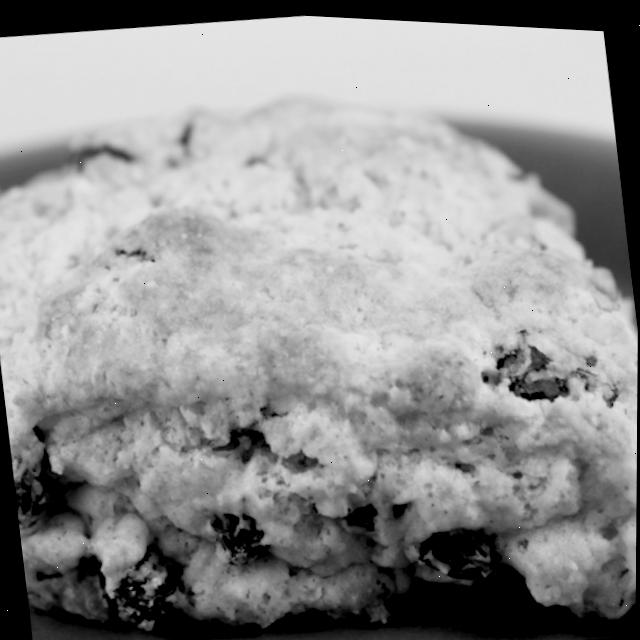面包点心: (0, 25, 640, 640)
